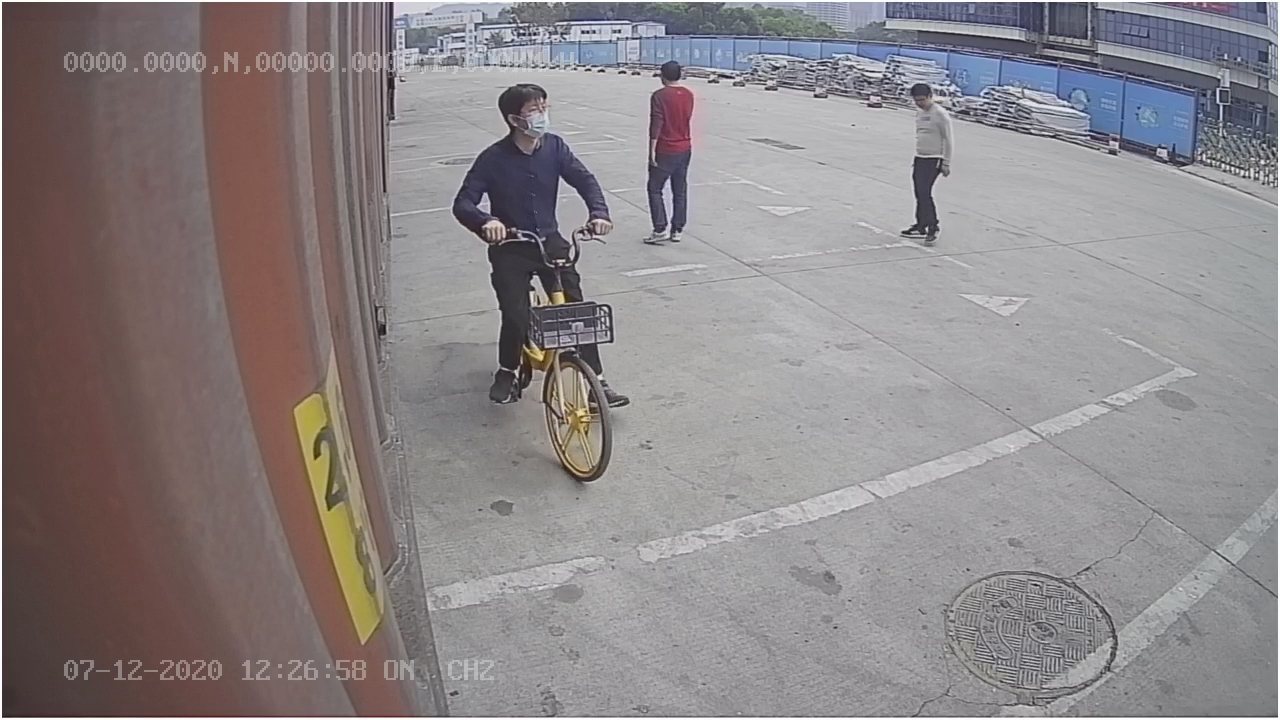person: (638, 58, 699, 245)
